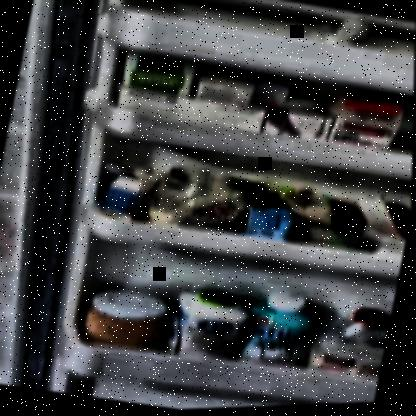heavy_cream: (245, 202, 297, 242)
milk: (170, 285, 250, 361)
